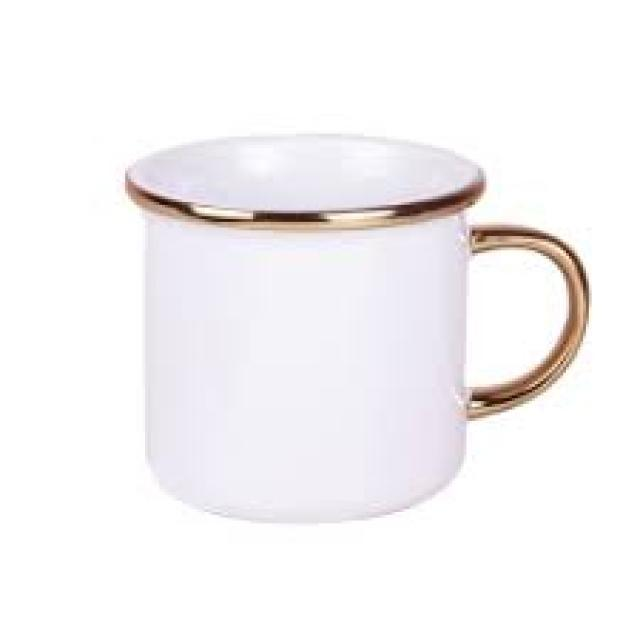taza: (125, 133, 592, 524)
